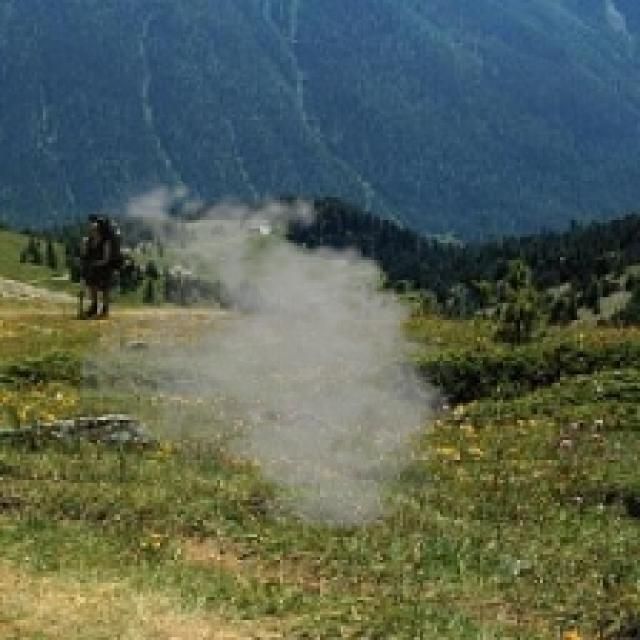Smoke: (77, 171, 466, 540)
